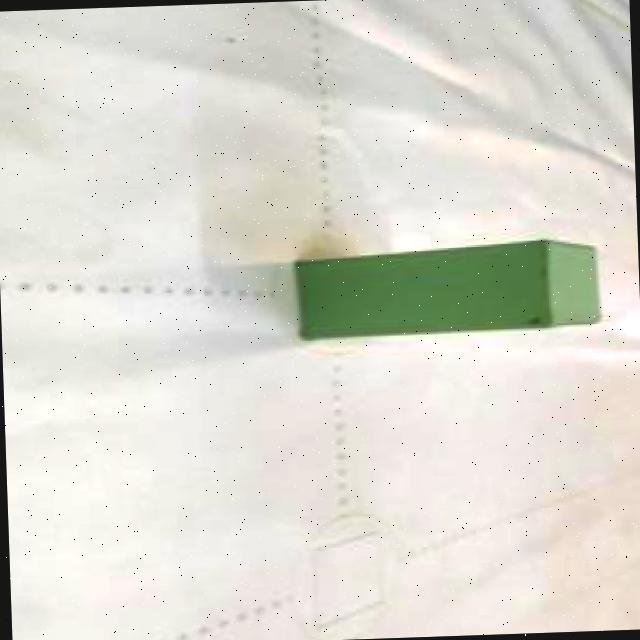greenbox: (290, 232, 609, 346)
